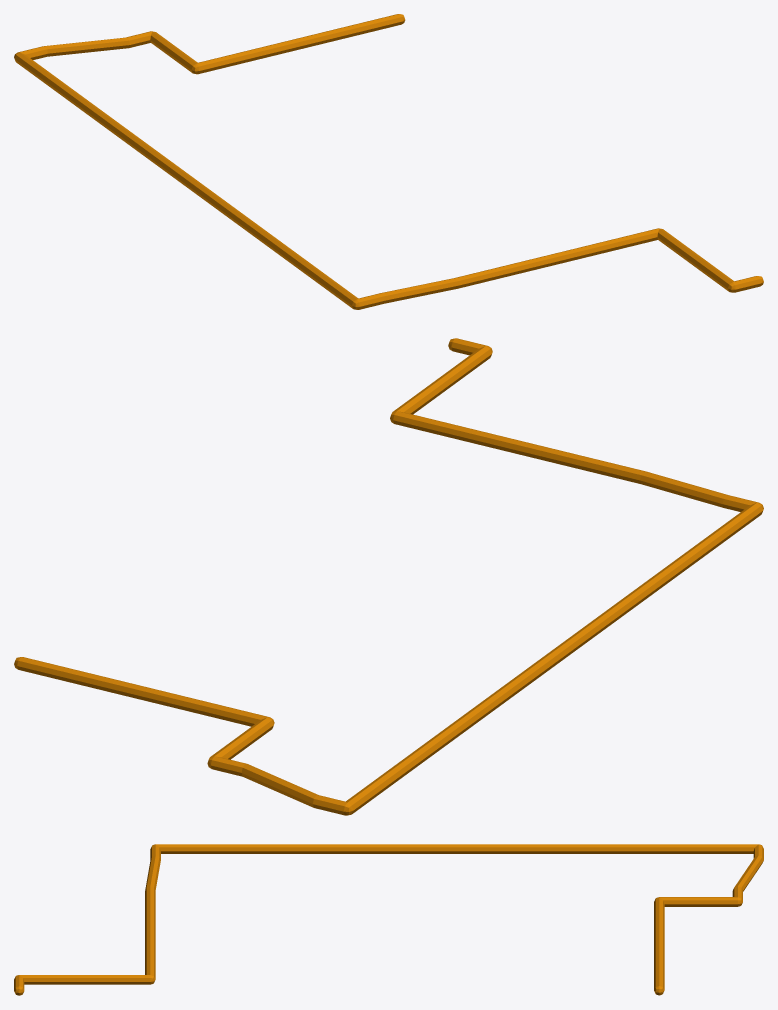
The picture shows the model from 3 angles, top to bottom: view 1: azimuth 30°, elevation 25°; view 2: azimuth 150°, elevation 25°; view 3: azimuth 270°, elevation 25°; orthographic projection. The views are drawn at different scales.
Bounding box in the file's own units: 660 × 20 × 1430.
